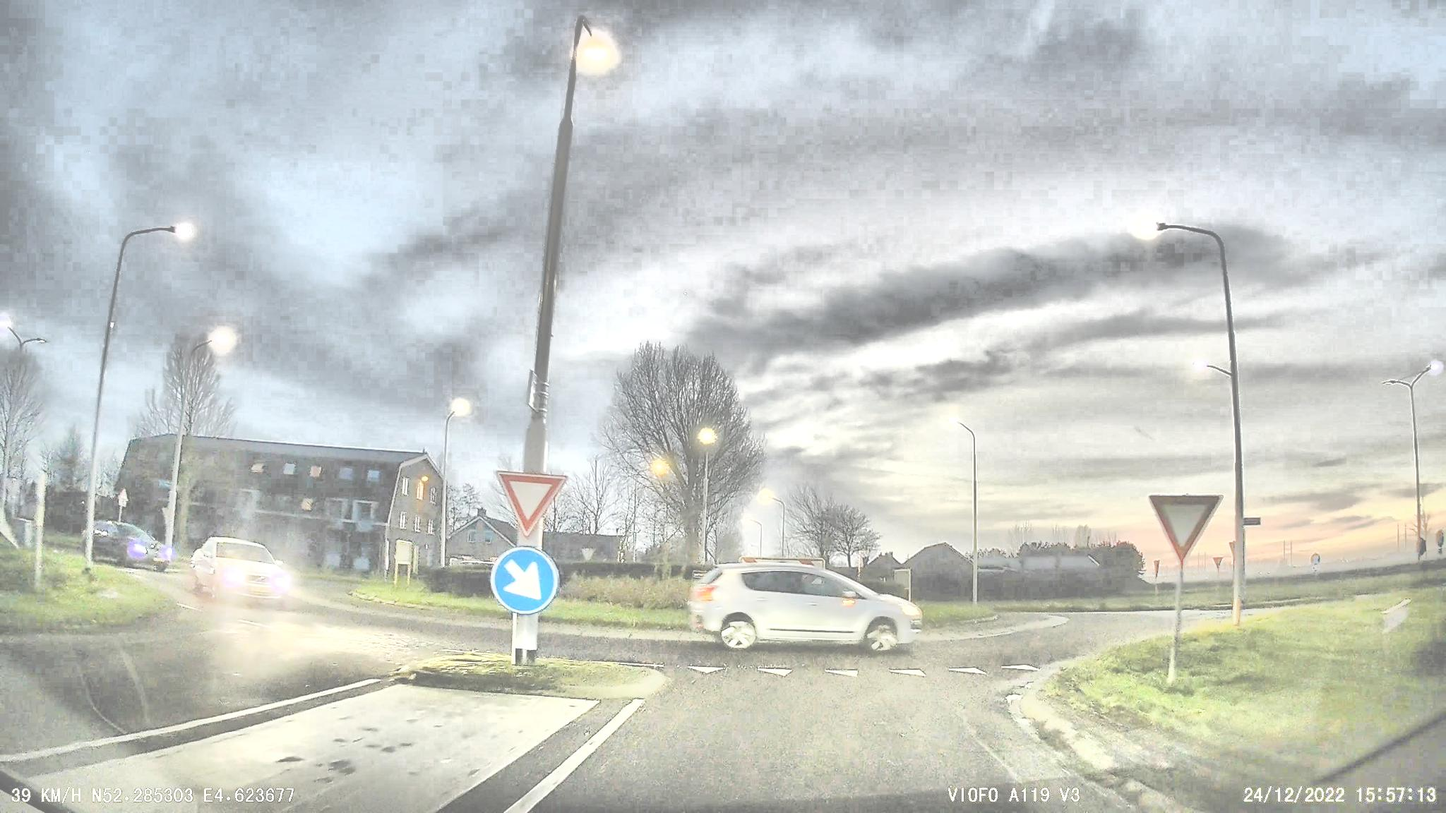Roads: (532, 614, 1180, 813), (0, 587, 510, 753)
